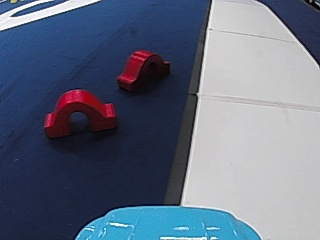bridge: (40, 85, 117, 137), (115, 46, 170, 94)
